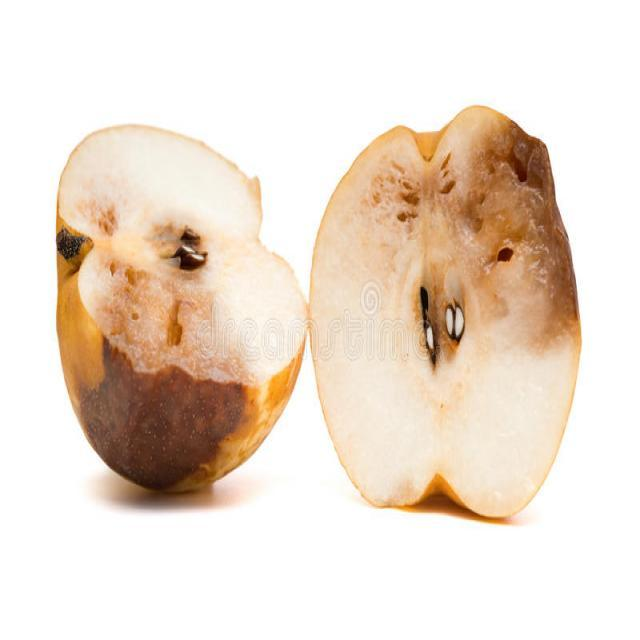Banana: (305, 100, 585, 523), (47, 118, 307, 495)
